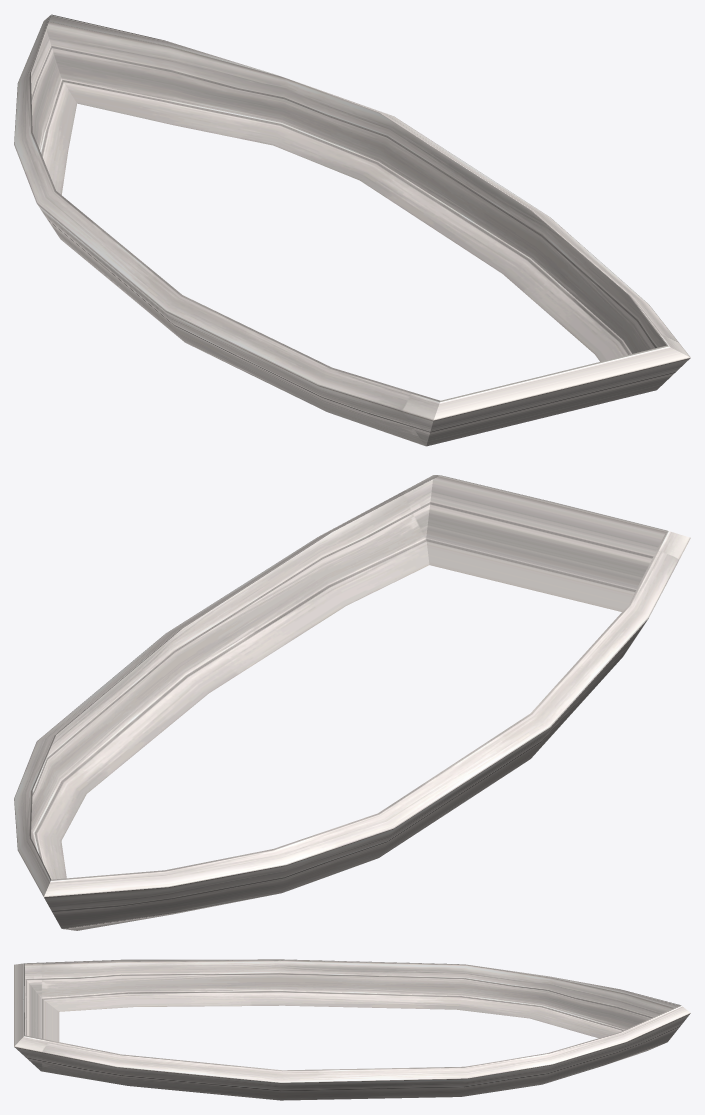
The model's file is A_HA_GEN_Ship_Hull_Colour_01.fbx.
The picture shows the model from 3 angles, top to bottom: view 1: azimuth 30°, elevation 25°; view 2: azimuth 150°, elevation 25°; view 3: azimuth 270°, elevation 25°; orthographic projection. The views are drawn at different scales.
Parts seen in each view (by area): view 1: A_HA_Gen_Ship_Hull_Colour_01; view 2: A_HA_Gen_Ship_Hull_Colour_01; view 3: A_HA_Gen_Ship_Hull_Colour_01.
Part boxes in pixels (left/top/right/bottom): A_HA_Gen_Ship_Hull_Colour_01: left=14, top=14, right=690, bottom=446; A_HA_Gen_Ship_Hull_Colour_01: left=14, top=475, right=690, bottom=930; A_HA_Gen_Ship_Hull_Colour_01: left=14, top=959, right=690, bottom=1100.
Bounding box in the file's own units: 1043 × 215 × 2435.
1 material, 1 textured.
